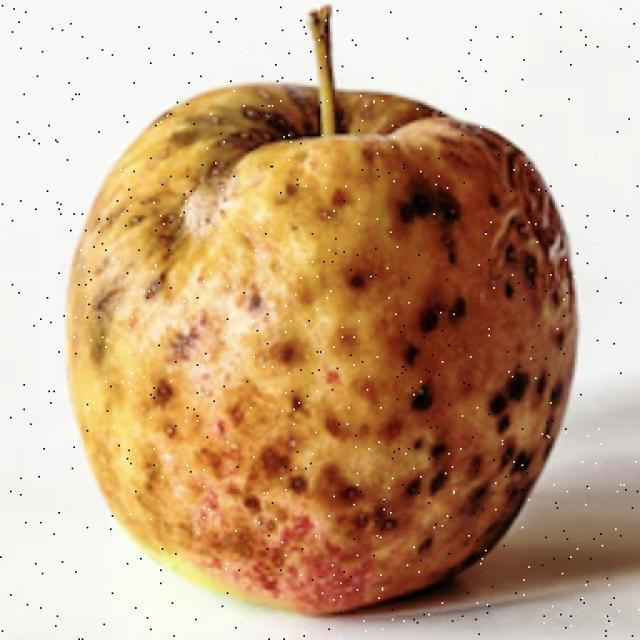Rotten: (105, 107, 570, 598)
